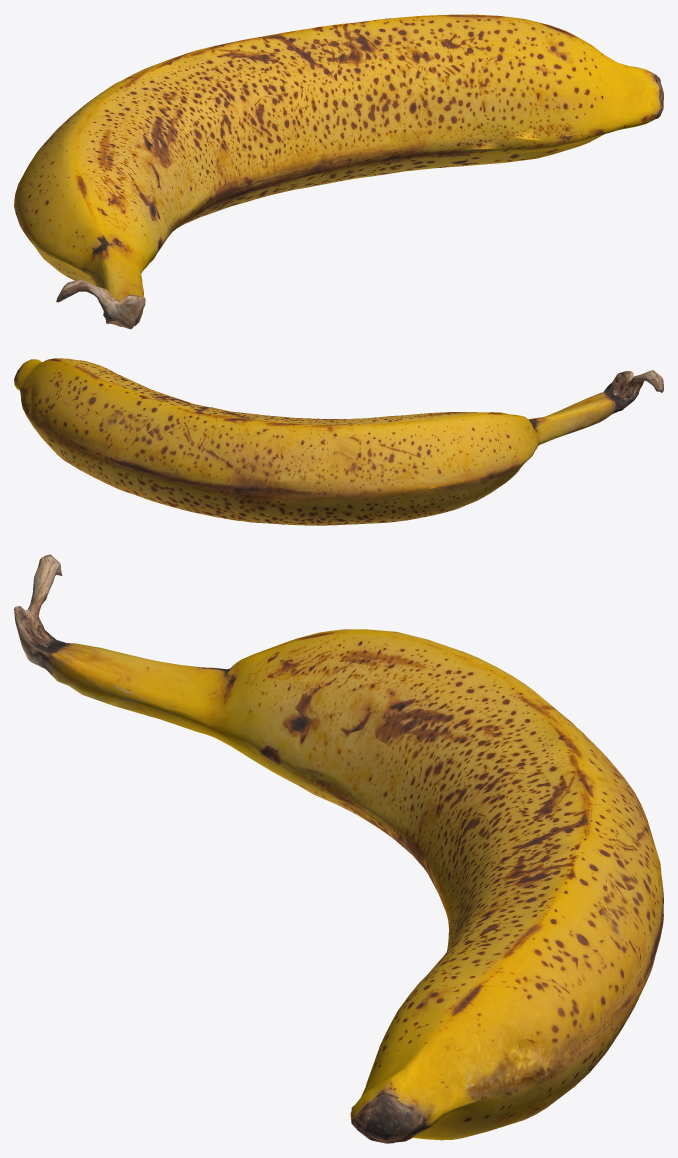
File: bananas-v1.glb
3 renders of one model, top to bottom at view 1: azimuth 30°, elevation 25°; view 2: azimuth 150°, elevation 25°; view 3: azimuth 270°, elevation 25°, orthographic. The views are drawn at different scales.
Visible parts, largest first — view 1: banana; view 2: banana; view 3: banana.
Boxes of the visible parts, box(x1,y1,x2,y2) form: banana: box(14, 14, 663, 329); banana: box(14, 358, 663, 525); banana: box(14, 554, 663, 1143).
Size of the model in its own units: 11.08 by 2.16 by 6.45.
Materials: 1 (1 with a texture image).
